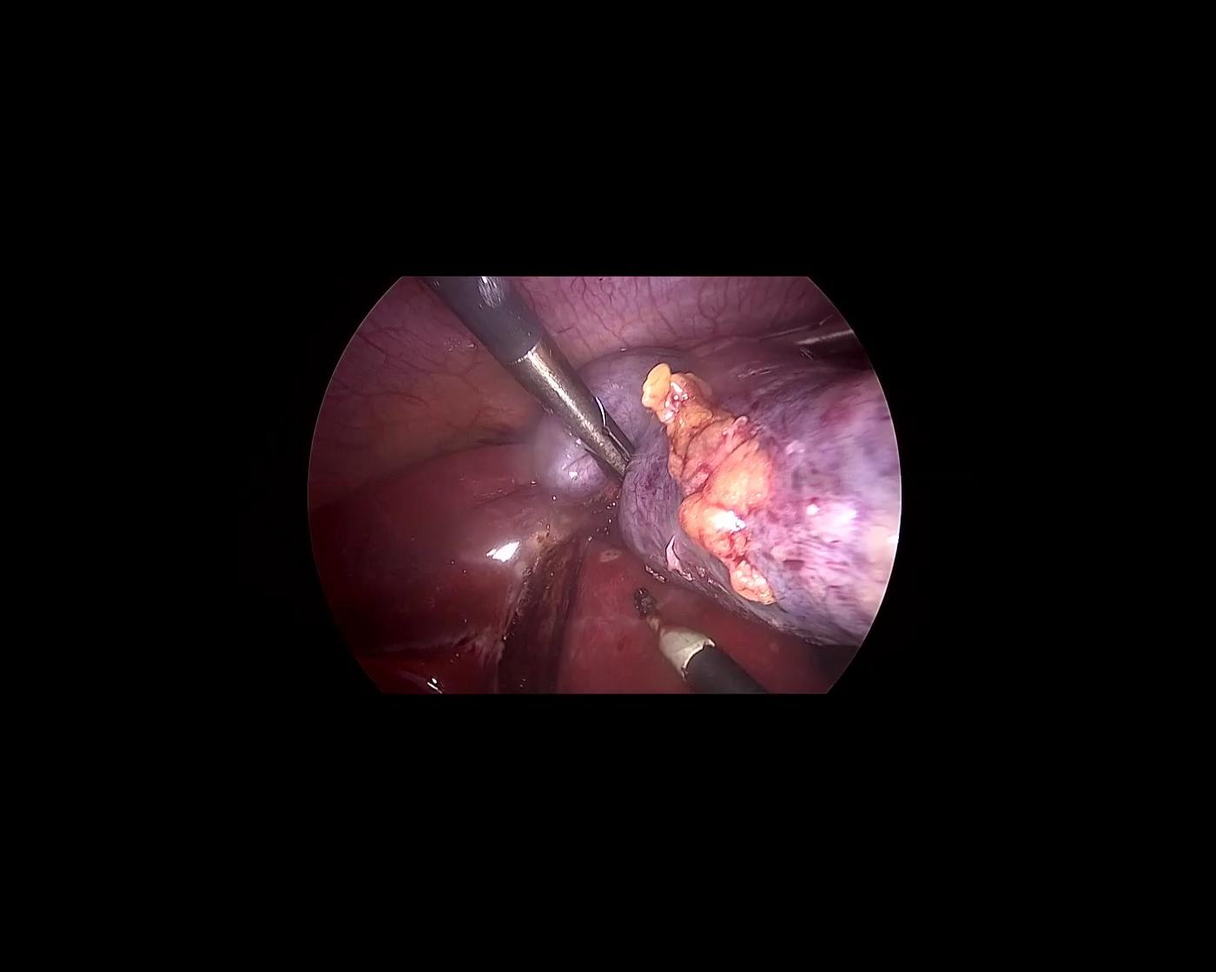Cautery: (610, 580, 771, 734)
Forceps: (420, 234, 667, 484), (742, 308, 861, 368)
Gallbladder: (499, 272, 946, 660)
Liver: (308, 441, 859, 696)
